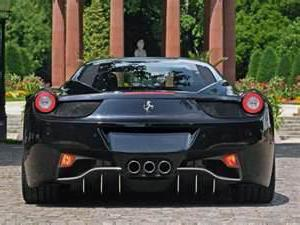Car: (9, 48, 288, 218)
